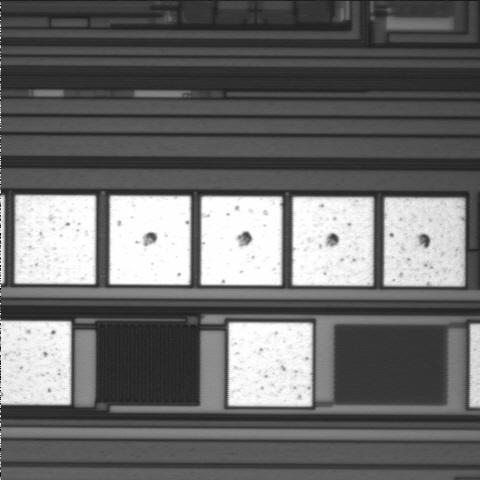pad: (109, 196, 191, 285), (15, 195, 96, 284), (201, 196, 282, 285), (292, 197, 373, 286), (384, 198, 465, 286), (228, 322, 312, 406)
